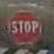stop: (6, 9, 42, 45)
